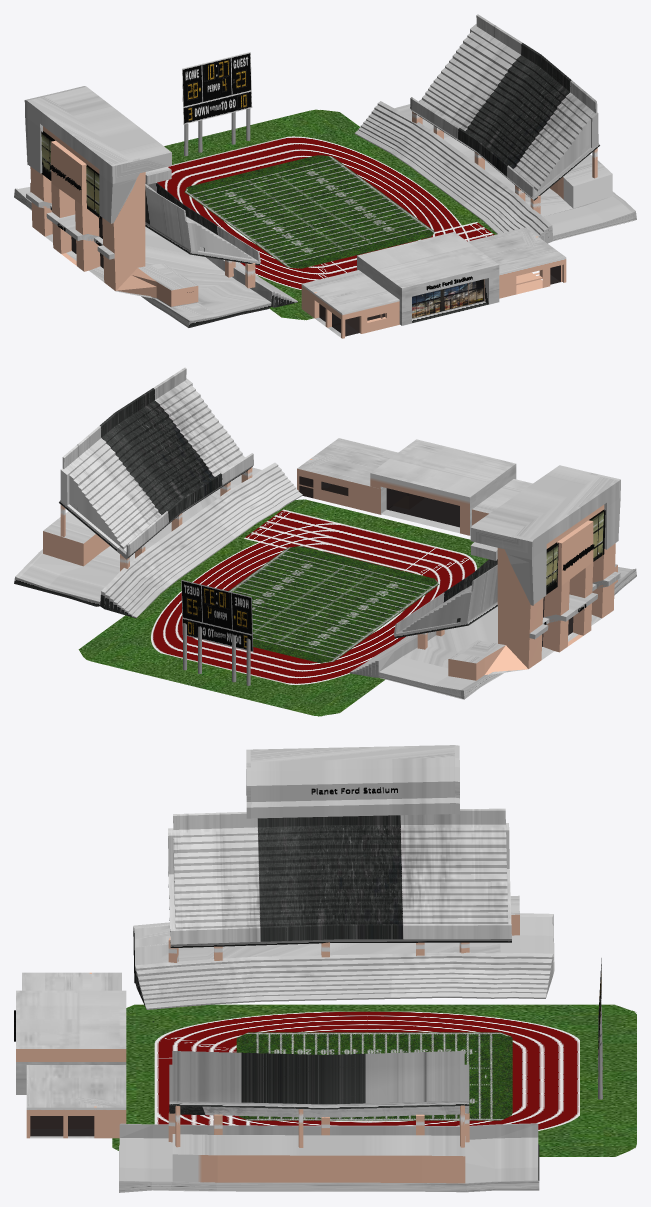
File: stadium.fbx
3 renders of one model, top to bottom at view 1: azimuth 30°, elevation 25°; view 2: azimuth 150°, elevation 25°; view 3: azimuth 270°, elevation 25°, orthographic. The views are drawn at different scales.
Visible parts, largest first — view 1: sitting1, secondstand, pPlane2, sitting, pPlane3, building, pPlane4, building6, secondstand1, building2, pPlane1, pPlane5; view 2: sitting1, secondstand, sitting, pPlane3, pPlane2, pPlane4, building, building2, secondstand1, pPlane1, building6, pPlane5 (+1 smaller); view 3: secondstand1, sitting1, sitting, pPlane4, secondstand, pPlane3, pPlane2, building, building2, building6.
Boxes of the visible parts, left/top/right/bottom form: sitting1: left=14, top=86, right=297, bottom=327; secondstand: left=410, top=14, right=599, bottom=200; pPlane2: left=184, top=155, right=434, bottom=268; sitting: left=354, top=101, right=636, bottom=243; pPlane3: left=157, top=136, right=494, bottom=289; building: left=357, top=232, right=499, bottom=325; pPlane4: left=164, top=109, right=496, bottom=320; building6: left=301, top=270, right=399, bottom=338; secondstand1: left=145, top=182, right=260, bottom=265; building2: left=467, top=227, right=566, bottom=304; pPlane1: left=182, top=52, right=252, bottom=124; pPlane5: left=86, top=166, right=101, bottom=219; sitting1: left=349, top=465, right=636, bottom=699; secondstand: left=59, top=367, right=253, bottom=559; sitting: left=14, top=462, right=302, bottom=618; pPlane3: left=151, top=509, right=476, bottom=684; pPlane2: left=228, top=546, right=439, bottom=663; pPlane4: left=78, top=499, right=488, bottom=716; building: left=370, top=439, right=516, bottom=535; building2: left=297, top=438, right=397, bottom=514; secondstand1: left=393, top=559, right=497, bottom=638; pPlane1: left=181, top=579, right=253, bottom=651; building6: left=472, top=479, right=532, bottom=525; pPlane5: left=591, top=510, right=605, bottom=561; secondstand1: left=168, top=808, right=511, bottom=947; sitting1: left=133, top=745, right=554, bottom=1009; sitting: left=119, top=1123, right=539, bottom=1192; pPlane4: left=112, top=1004, right=636, bottom=1156; secondstand: left=169, top=1051, right=469, bottom=1117; pPlane3: left=154, top=1011, right=579, bottom=1130; pPlane2: left=236, top=1032, right=512, bottom=1120; building: left=16, top=990, right=126, bottom=1094; building2: left=26, top=1065, right=126, bottom=1138; building6: left=22, top=972, right=121, bottom=990.
Bounding box in the file's own units: 401 × 121 × 364.
11 materials, 8 textured.
